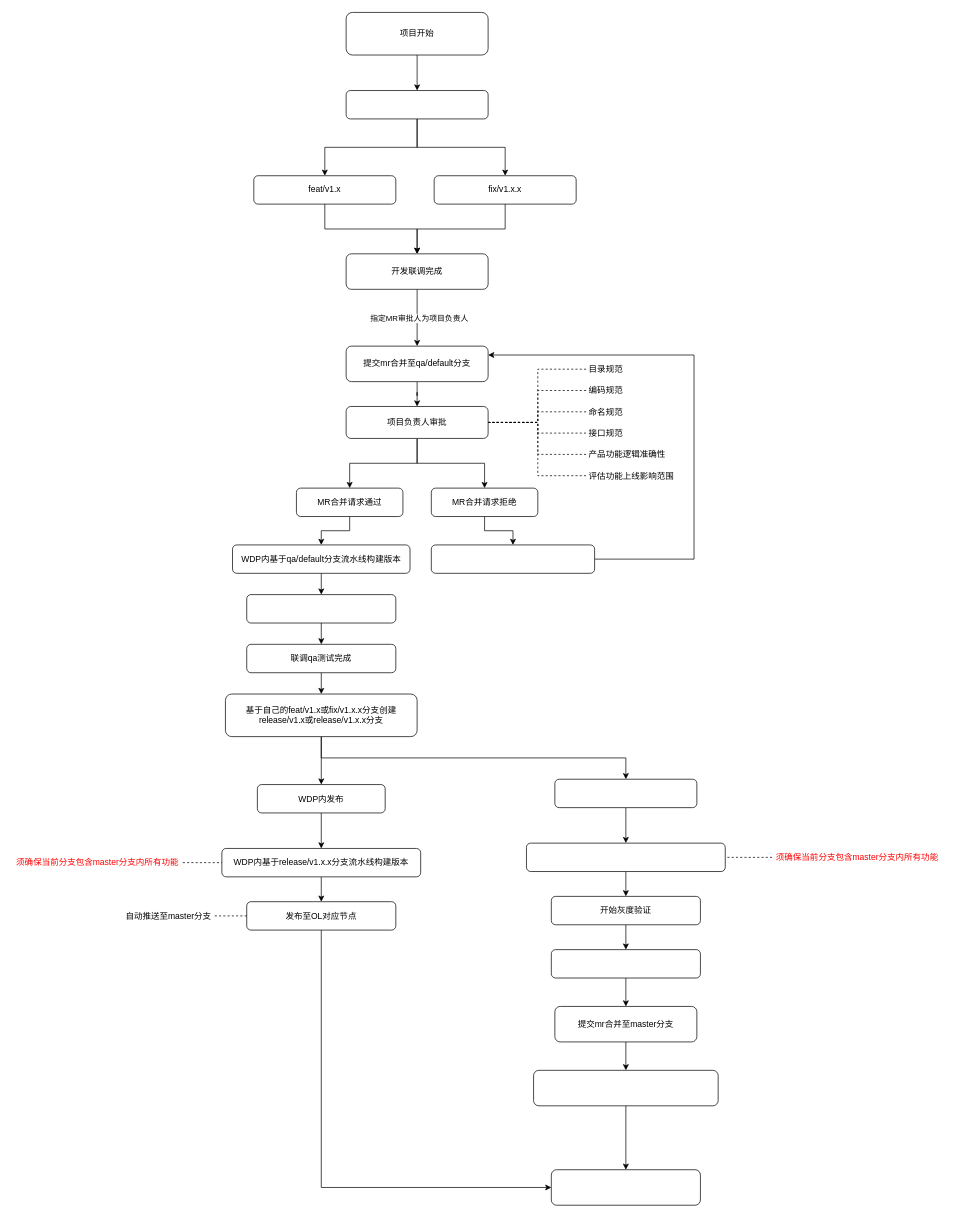
Some shapes in this 954 by 1218 pixel diagram are drawn without their labels. Here are the shapes that lost their labels. From the top down, the centre of each, then its label:
the point at 416,104: 基于master分支创建
the point at 513,558: 根据项目负责人要求修改并重新提交MR
the point at 321,608: 发布至联调qa对应节点
the point at 625,793: 灰度发布
the point at 625,857: WDP内基于release/v1.x分支流水线构建版本
the point at 625,963: 灰度转正
the point at 625,1088: 项目负责人审批通过推送至master分支
the point at 625,1187: 上线完成
